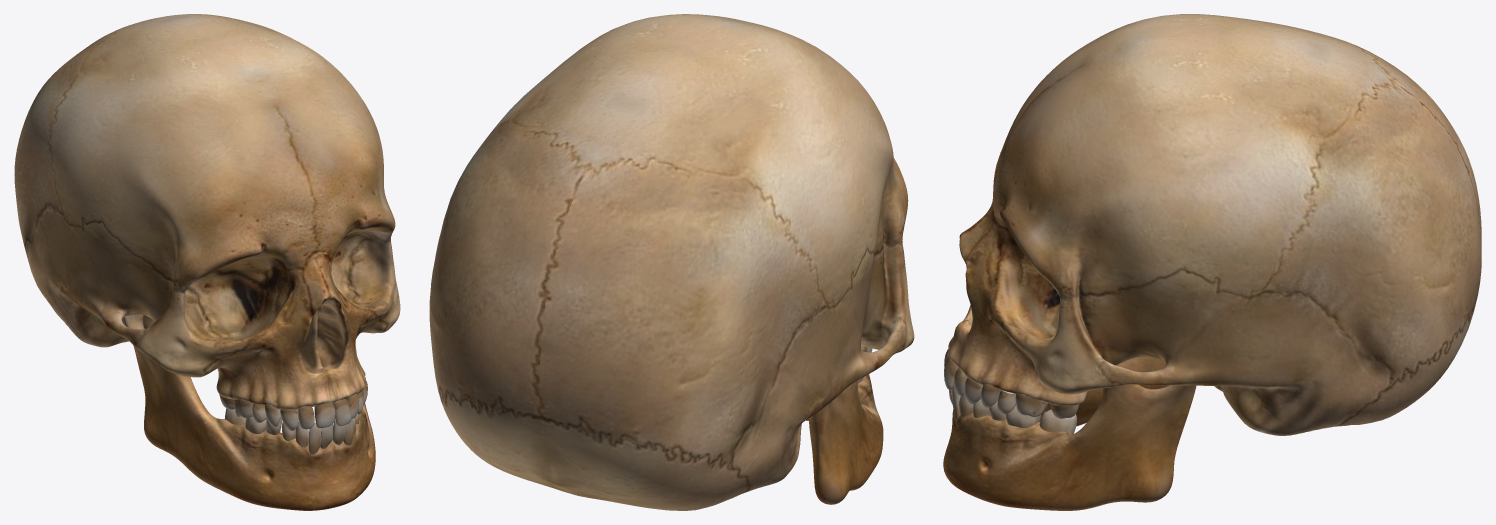
The model's file is skull.glb.
3 views of the same model, side by side, from view 1: azimuth 30°, elevation 25°; view 2: azimuth 150°, elevation 25°; view 3: azimuth 270°, elevation 25° (orthographic). The views are drawn at different scales.
Visible parts, largest first — view 1: 12140_Skull_v3_L2; view 2: 12140_Skull_v3_L2; view 3: 12140_Skull_v3_L2.
Part boxes in pixels (x1,y1,x2,y2): 12140_Skull_v3_L2: (14,14,400,510); 12140_Skull_v3_L2: (429,14,914,510); 12140_Skull_v3_L2: (943,14,1481,510).
Size of the model in its own units: 19.84 by 26.86 by 29.87.
Materials: 1 (1 with a texture image).
